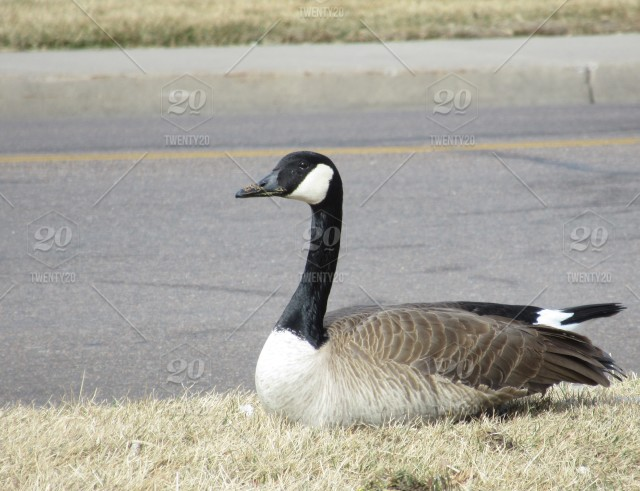goose: (231, 149, 629, 424)
